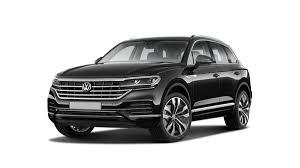volkswagen: (81, 81, 93, 94)
